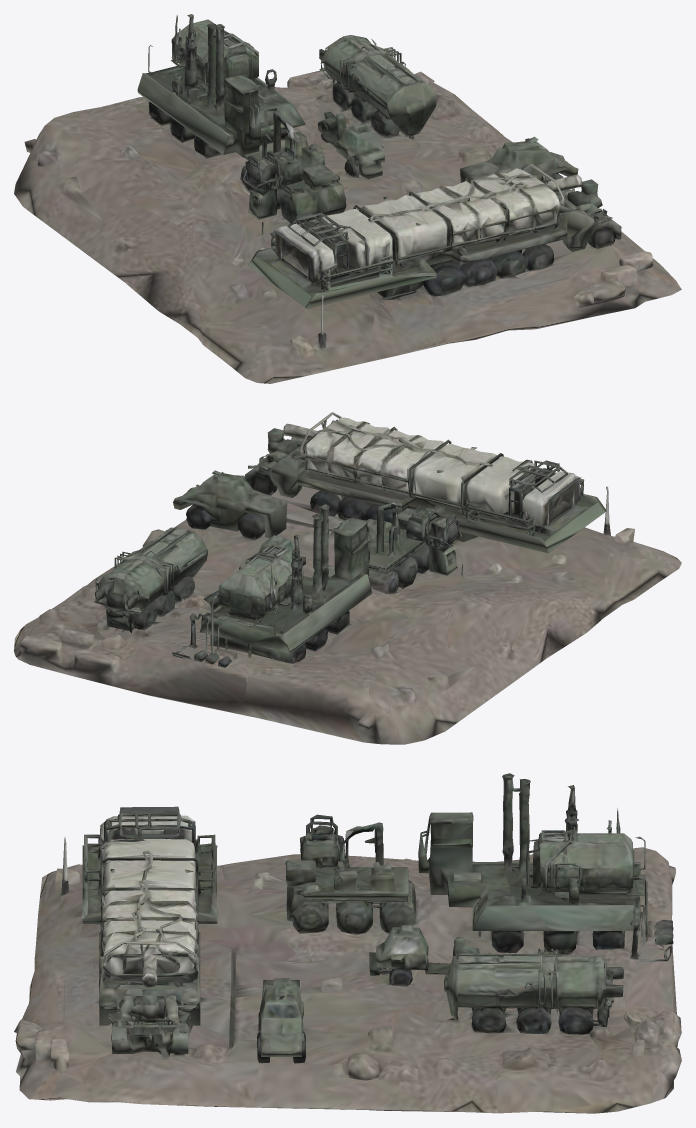
File: t243_hub_lod0m.glb
The picture shows the model from 3 angles, top to bottom: view 1: azimuth 30°, elevation 25°; view 2: azimuth 150°, elevation 25°; view 3: azimuth 270°, elevation 25°; orthographic projection. The views are drawn at different scales.
Size of the model in its own units: 12.99 by 4.74 by 15.
1 material, 1 textured.
